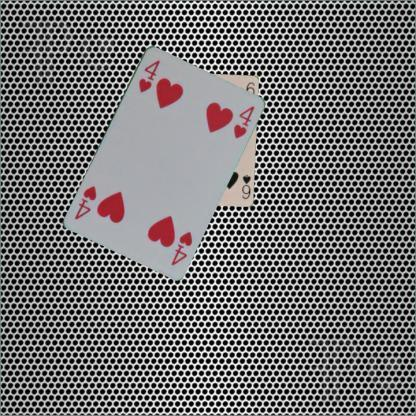4h: (136, 57, 162, 94), (168, 229, 194, 266)
6s: (240, 172, 251, 200)
